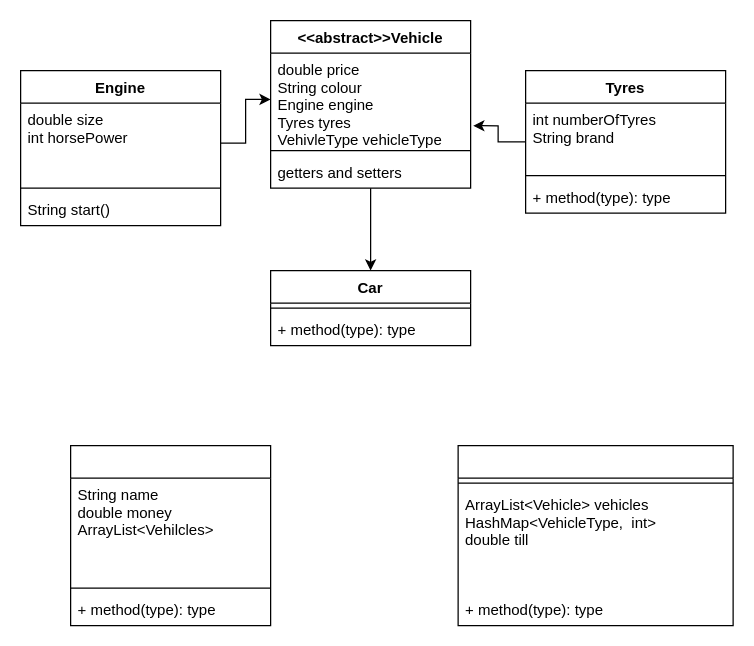
Image size: 754x646. Some labels were removed from this diagram. The shapes that lost their labels are listed below. From the top down, each one's box as (x1, y1, x2, y2) in pixels, then its label:
(69, 444, 271, 626): Customer
(457, 444, 733, 626): Dealership
